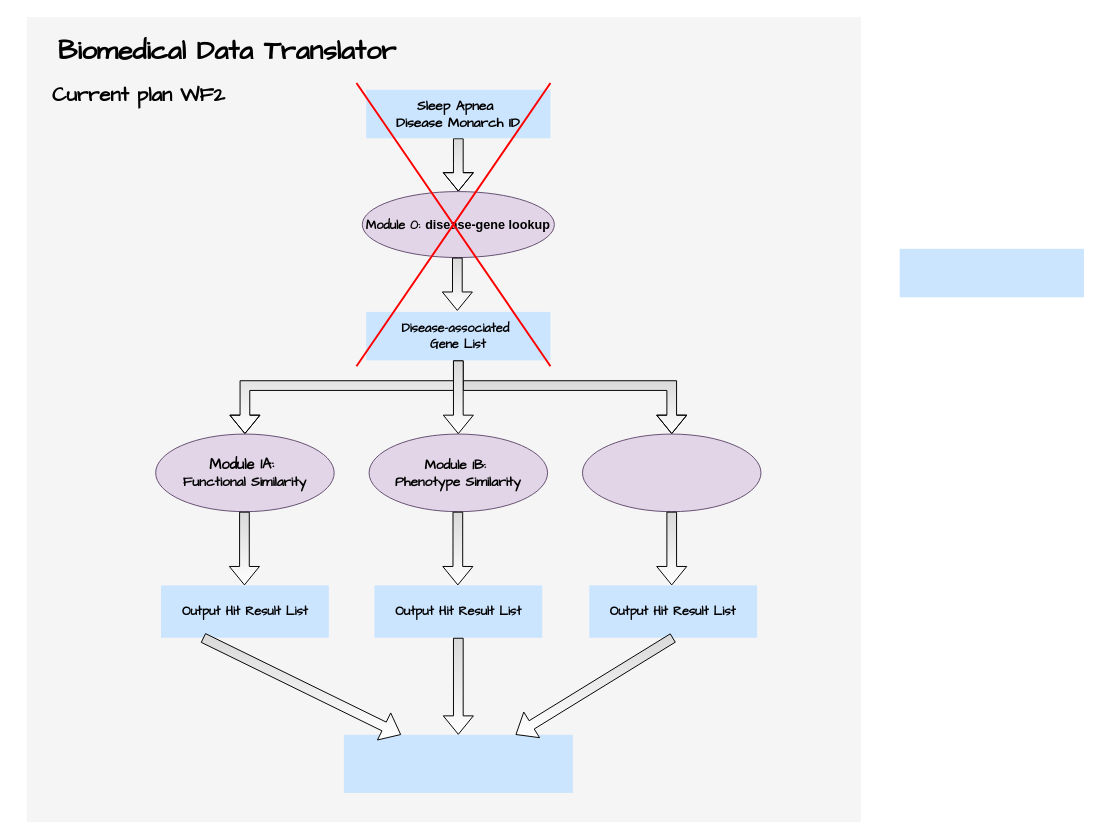
Some shapes in this 1100 by 838 pixel diagram are drawn without their labels. Here are the shapes that lost their labels. From the top down, the box of each, then its label:
(899, 248, 1083, 297): Candidate Gene List
(582, 433, 761, 512): Module 1E: Gene Interaction
(343, 734, 572, 792): Most Occurrence Result List
